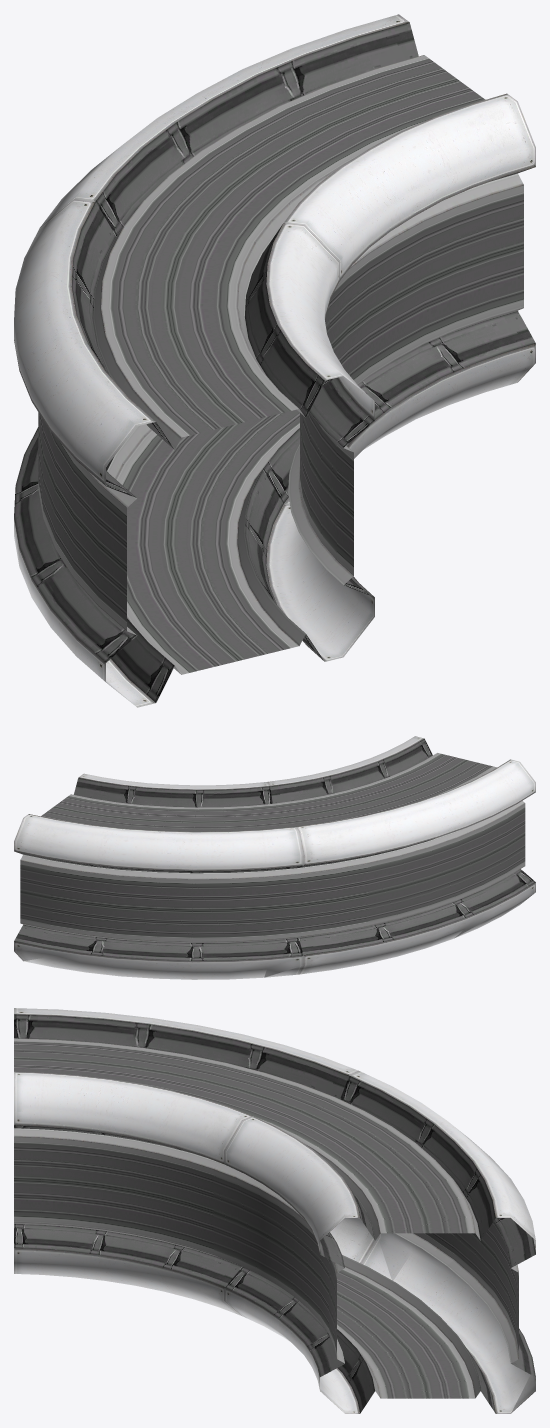
Rendered from CeilingBrace_Curve_S.FBX.
3 views of the same model, one above another, from view 1: azimuth 30°, elevation 25°; view 2: azimuth 150°, elevation 25°; view 3: azimuth 270°, elevation 25° (orthographic). The views are drawn at different scales.
Visible parts, largest first — view 1: CeilingBrace_Curve_S; view 2: CeilingBrace_Curve_S; view 3: CeilingBrace_Curve_S.
Boxes of the visible parts, bbox=[...] form: CeilingBrace_Curve_S: bbox=[14, 14, 535, 707]; CeilingBrace_Curve_S: bbox=[14, 736, 535, 979]; CeilingBrace_Curve_S: bbox=[14, 1008, 535, 1413].
Size of the model in its own units: 3.15 by 1.3 by 3.15.
